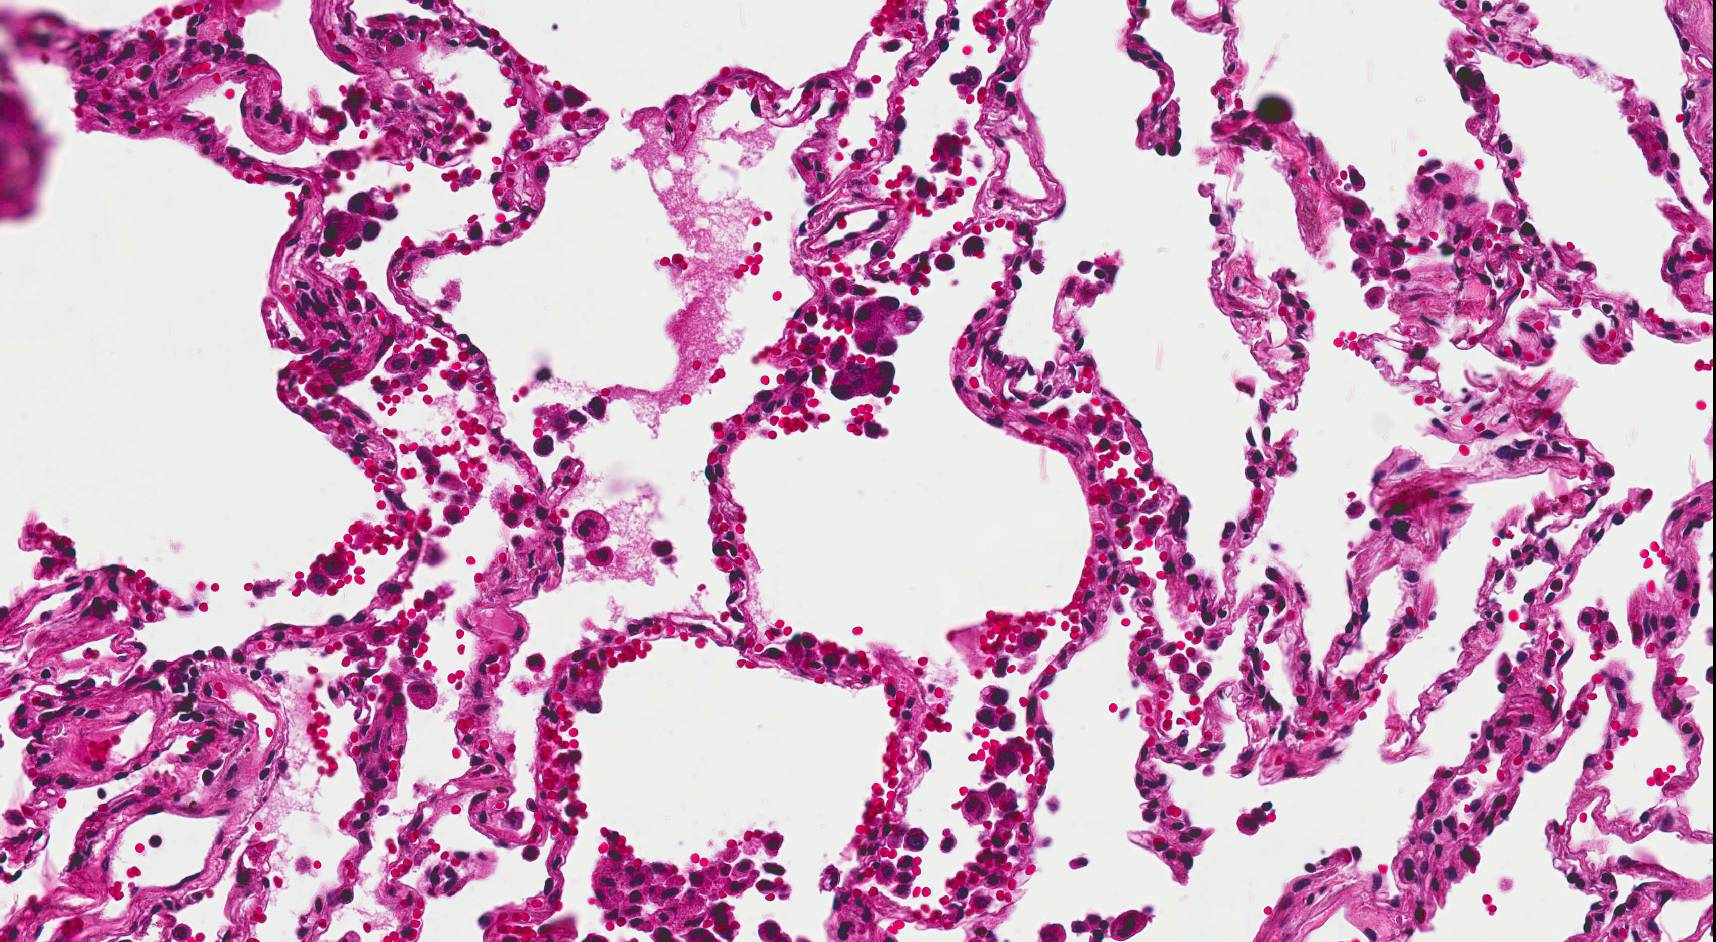stas: (309, 188, 400, 262), (852, 294, 924, 359), (830, 354, 903, 404)
